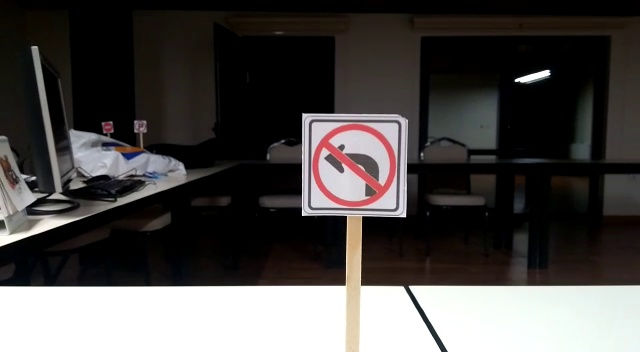sola_donulmez: (307, 117, 404, 210)
